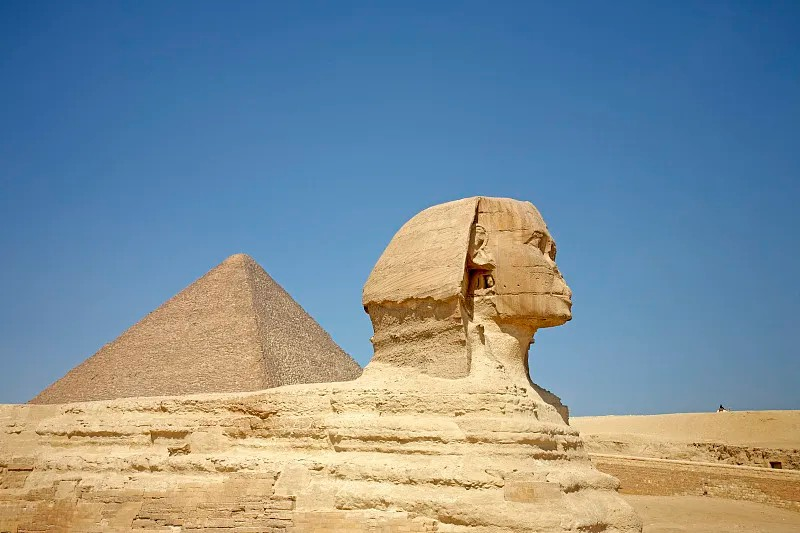Pyramid: (27, 254, 364, 406)
